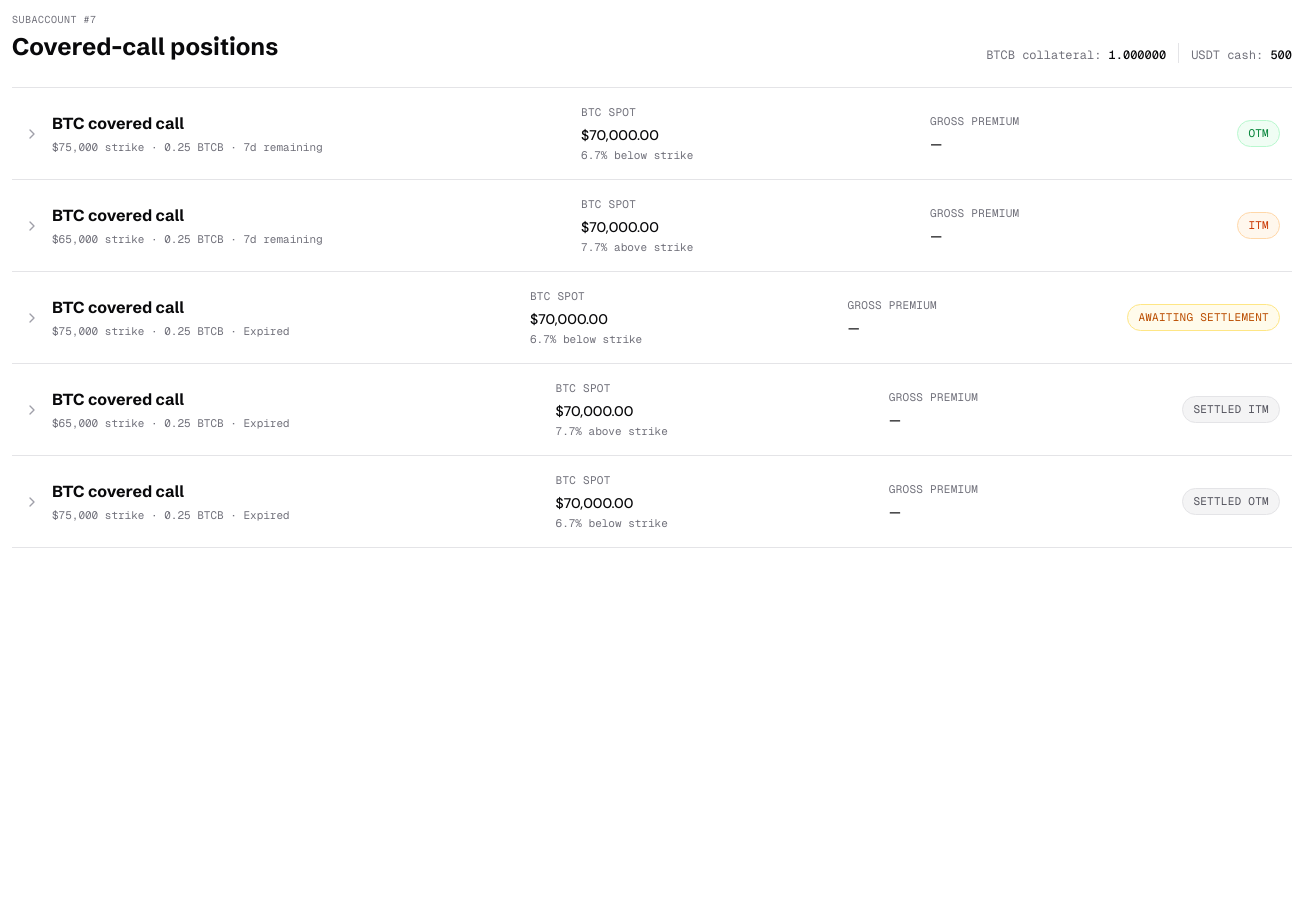
it: covered-call position rows › expands a row to show collateral and cash-settlement details
Click the button "BTC covered call": (652, 134) [12,88,1292,179]
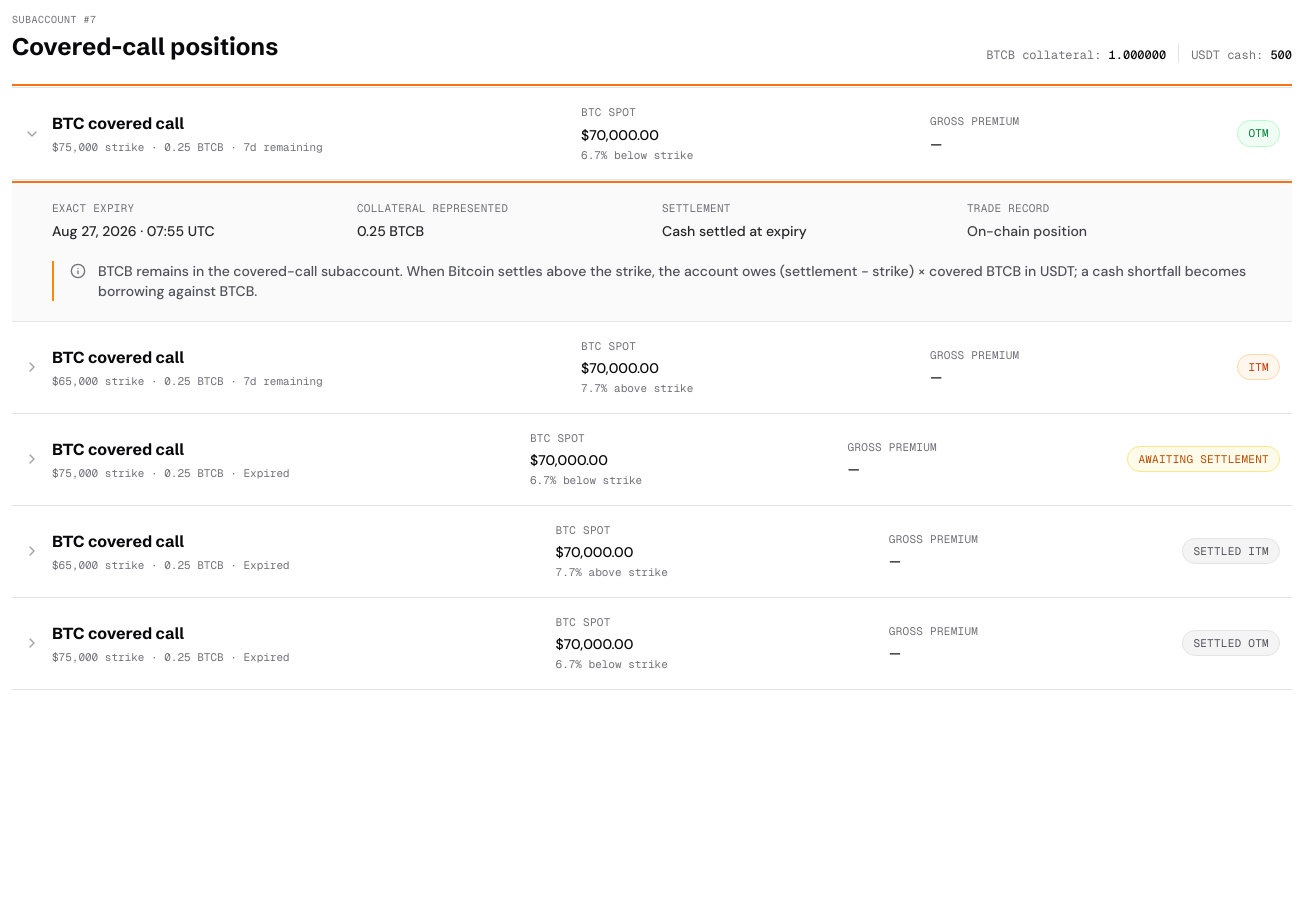
Expected: the text "Exact expiry" is shown, [52,201,134,215]
Expected: the text "0.25 BTCB" is shown, [357,222,424,240]
Expected: the text "Cash settled at expiry" is shown, [662,222,807,240]
